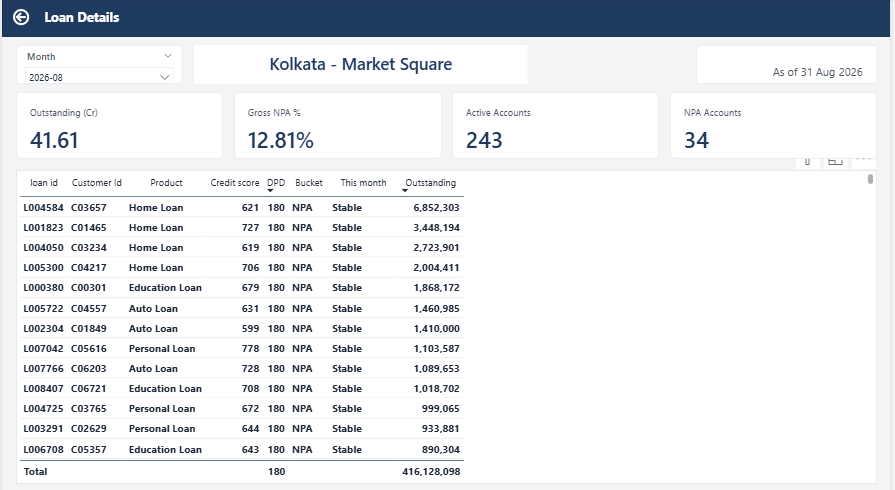

Layout of this report page (visuals, bound fields, positions):
{"tool":"powerbi","page":{"name":"Loan Details","canvas":[1280,720],"ordinal":3},"visuals":[{"type":"shape","box":[0,0,1280,56],"z":0},{"type":"textbox","box":[56,10,600,36],"z":1000},{"type":"actionButton","box":[12,12,32,32],"z":2000},{"type":"cardVisual","fields":{"Data":["_Measures.Outstanding (Cr)"]},"box":[20.2,136,298,96.5],"z":3000},{"type":"cardVisual","fields":{"Data":["_Measures.GNPA %"]},"box":[334,136,298.8,96.2],"z":4000},{"type":"slicer","fields":{"Values":["Dim_date_table.Year Month"]},"box":[20,68,240,56.2],"z":5000},{"type":"cardVisual","fields":{"Data":["_Measures.Title - As Of"]},"box":[1000,68,260.6,56.2],"z":6000},{"type":"card","fields":{"Values":["_Measures.Selected Branch"]},"box":[276.5,67.7,480,56],"z":7000},{"type":"cardVisual","fields":{"Data":["_Measures.Active Accounts"]},"box":[648,136,298,96.5],"z":8000},{"type":"tableEx","fields":{"Values":["Fact_loan_monthly.loan_id","Dim_customers.Customer Id","Dim_products.Product_type","Dim_customers.Credit Score","_Measures.Current DPD","_Measures.Current Bucket","_Measures.Current Movement","_Measures.Total Outstanding"]},"box":[20.2,247.7,1240,452],"z":9000},{"type":"cardVisual","fields":{"Data":["_Measures.NPA Accounts"]},"box":[962,136,298.1,96.5],"z":10000}]}

Visuals, with their boxes in screenshot pixels (x1, y1, x2, y2), scaled from the page's 1280x720 canvas onto the 895x490 screenshot:
shape: (x1=0, y1=0, x2=894, y2=38)
textbox: (x1=39, y1=7, x2=459, y2=31)
actionButton: (x1=8, y1=8, x2=31, y2=30)
cardVisual - _Measures.Outstanding (Cr): (x1=14, y1=93, x2=222, y2=158)
cardVisual - _Measures.GNPA %: (x1=234, y1=93, x2=442, y2=158)
slicer - Dim_date_table.Year Month: (x1=14, y1=46, x2=182, y2=85)
cardVisual - _Measures.Title - As Of: (x1=699, y1=46, x2=881, y2=85)
card - _Measures.Selected Branch: (x1=193, y1=46, x2=529, y2=84)
cardVisual - _Measures.Active Accounts: (x1=453, y1=93, x2=661, y2=158)
tableEx - Fact_loan_monthly.loan_id x Dim_customers.Customer Id: (x1=14, y1=169, x2=881, y2=476)
cardVisual - _Measures.NPA Accounts: (x1=673, y1=93, x2=881, y2=158)
